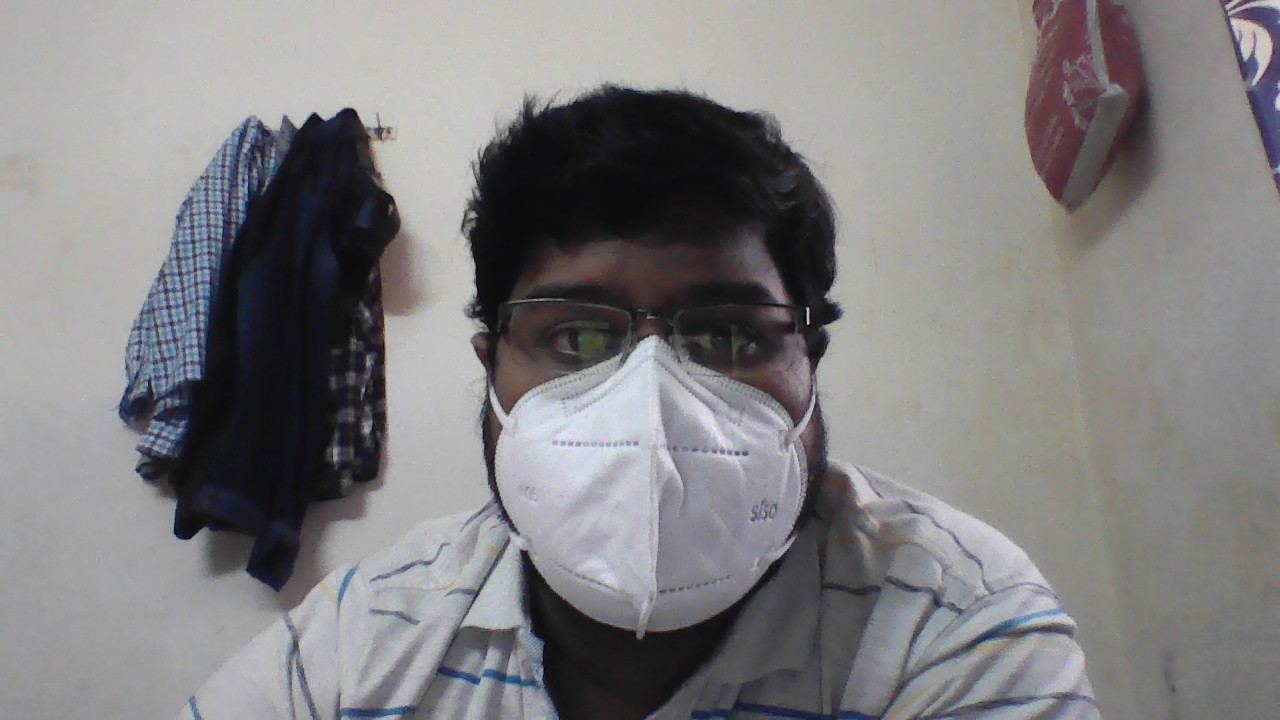Mask: (468, 341, 818, 627)
